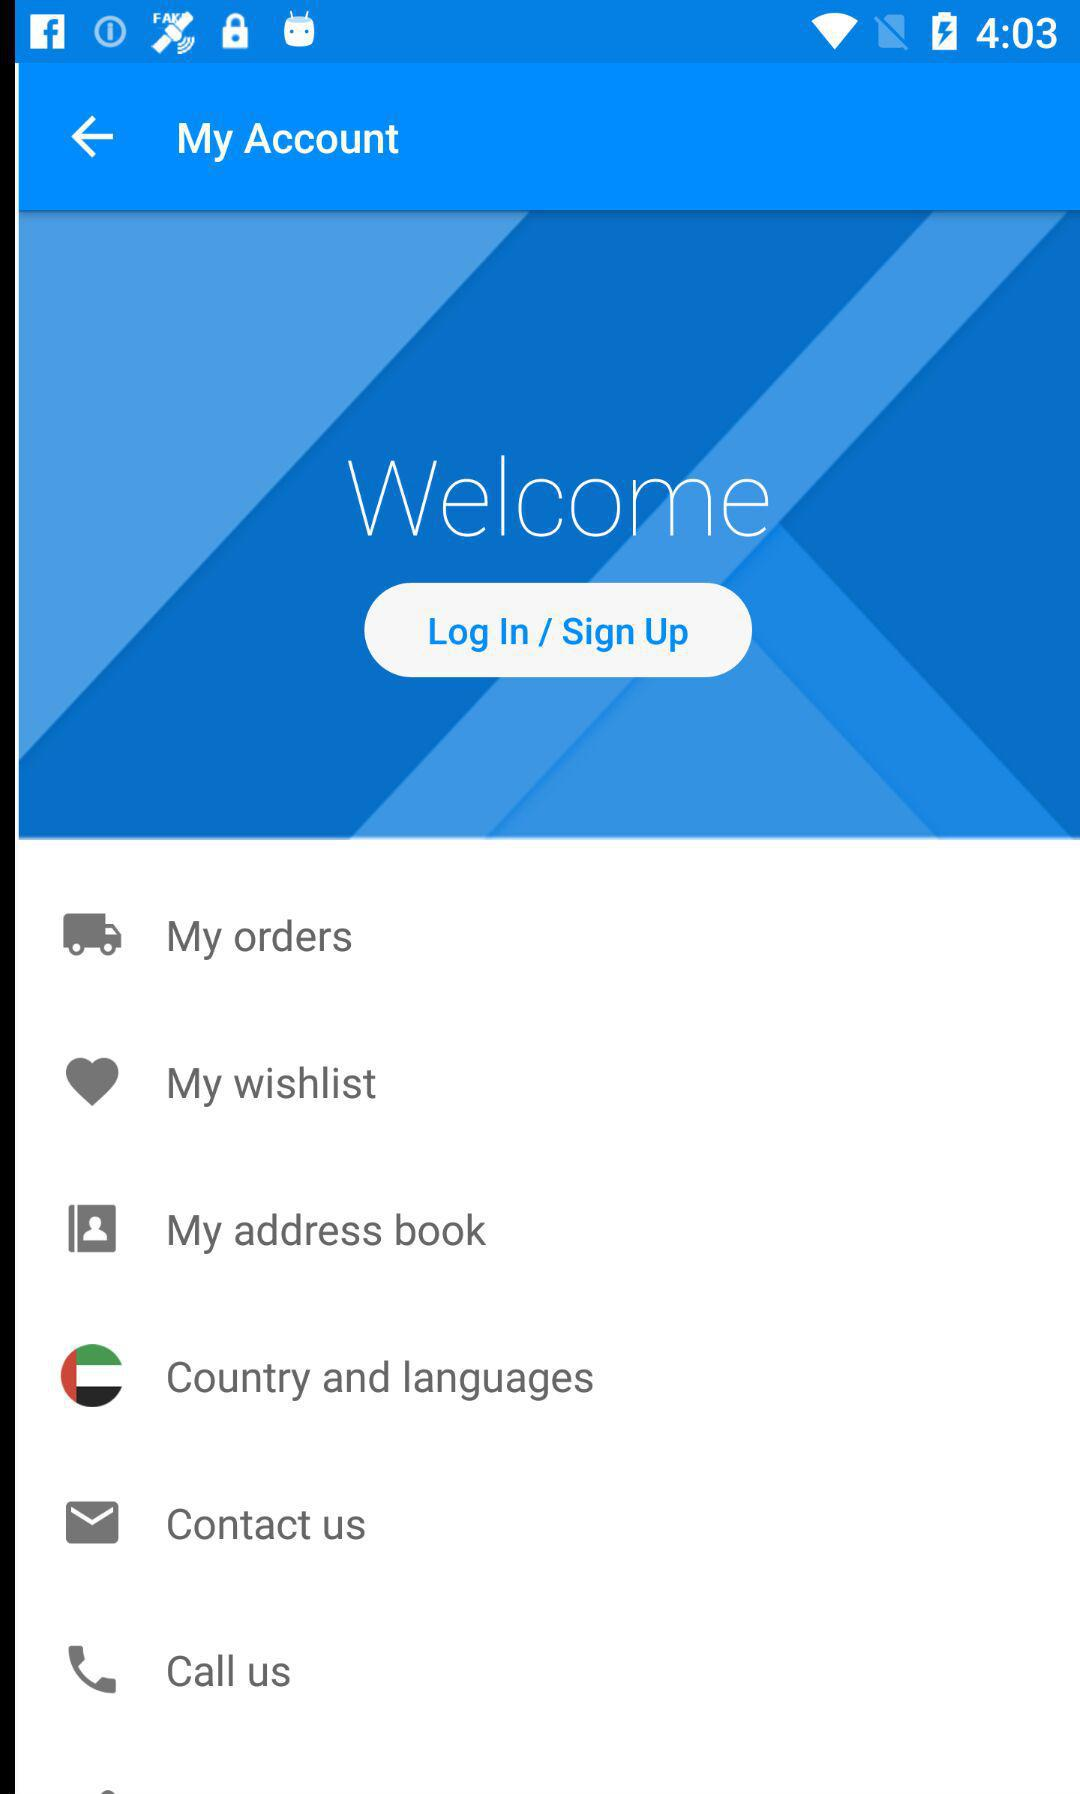Icon: (67, 1057, 120, 1107), (68, 1205, 118, 1255), (67, 1501, 120, 1544), (70, 115, 115, 159)
Image: (61, 1343, 124, 1408), (63, 912, 123, 957), (69, 1644, 118, 1694)
Text: (348, 455, 770, 539), (168, 1360, 594, 1402), (168, 1212, 487, 1255), (168, 1065, 377, 1108), (179, 126, 400, 164), (169, 919, 354, 961), (168, 1511, 366, 1542), (168, 1653, 292, 1688)
TextButton: (363, 582, 753, 679)
Toolbar: (19, 65, 1080, 211)
UpperTaskBar: (15, 1, 1080, 64)
